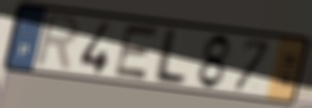4: (77, 18, 113, 76)
7: (233, 38, 274, 93)
8: (196, 31, 233, 92)
E: (111, 22, 163, 83)
L: (149, 27, 190, 88)
R: (31, 12, 82, 74)
